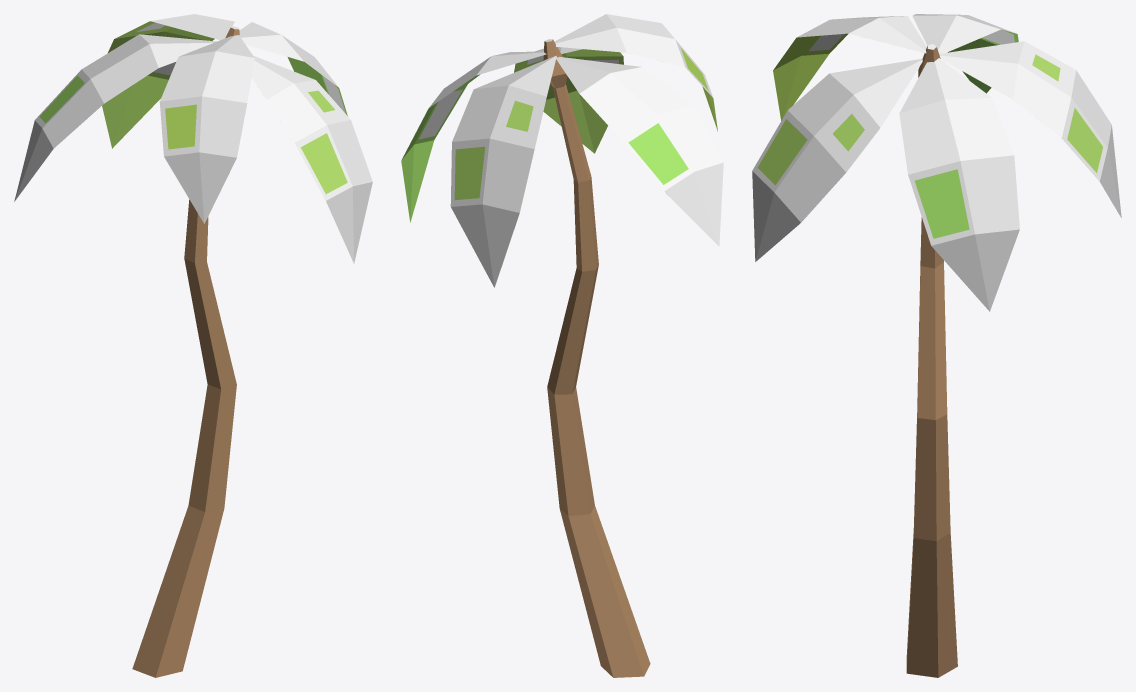
File: Palm_Tree_s_Snow_04_LOD.fbx
3 renders of one model, left to right at view 1: azimuth 30°, elevation 25°; view 2: azimuth 150°, elevation 25°; view 3: azimuth 270°, elevation 25°, orthographic. The views are drawn at different scales.
Visible parts, largest first — view 1: Palm_Tree_s_Snow_04_LOD0; view 2: Palm_Tree_s_Snow_04_LOD0; view 3: Palm_Tree_s_Snow_04_LOD0.
Part boxes in pixels (x1=…): Palm_Tree_s_Snow_04_LOD0: x1=14, y1=14, x2=372, y2=677; Palm_Tree_s_Snow_04_LOD0: x1=401, y1=14, x2=723, y2=677; Palm_Tree_s_Snow_04_LOD0: x1=752, y1=14, x2=1121, y2=677.
Size of what is drawn, in the model's own units: 243 by 462 by 232.
